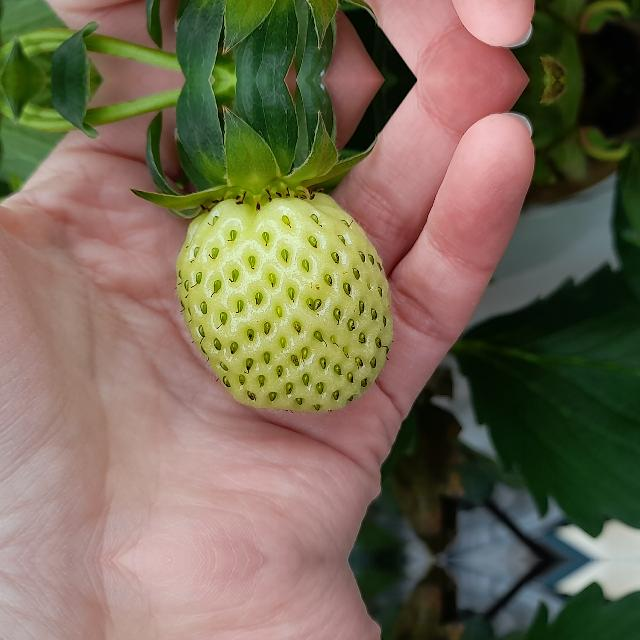Health_25: (175, 192, 393, 412)
